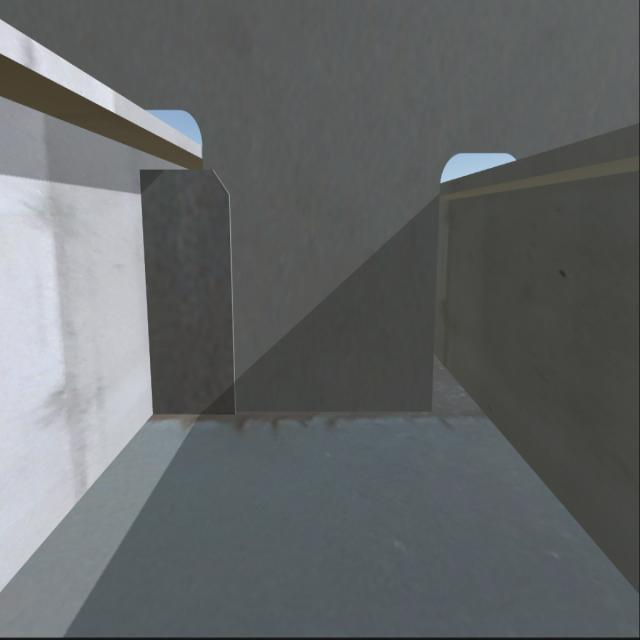fillet_yong_jeop_jang: (152, 404, 430, 420)
longi_yong_jeop_jang: (124, 170, 154, 417)
plate_CP03: (135, 160, 237, 409)
